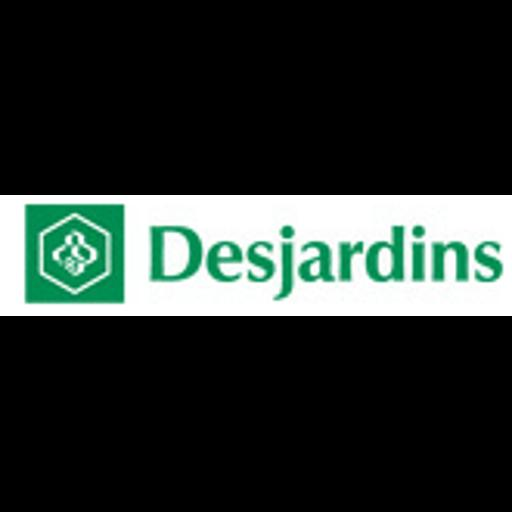Desjardins: (0, 195, 512, 316)
